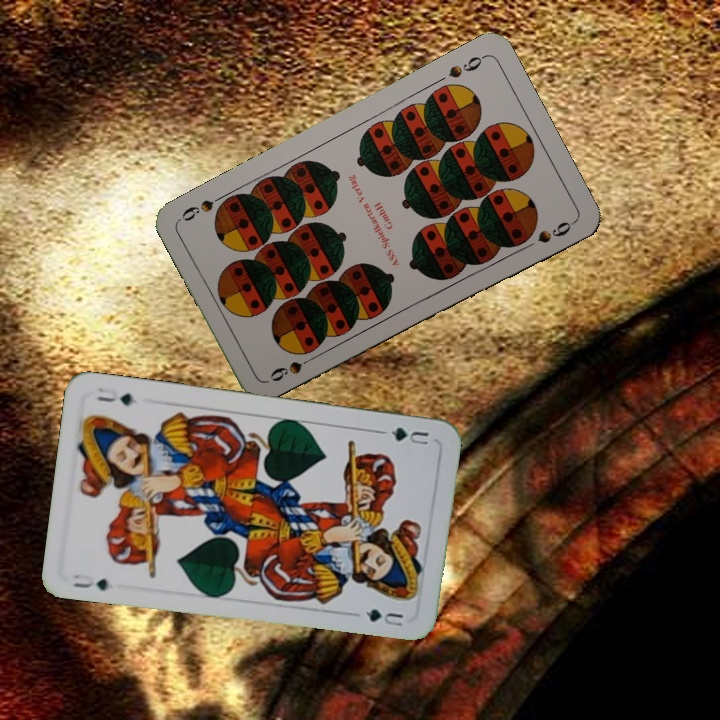GU: (387, 423, 432, 448), (68, 570, 112, 594)
S9: (266, 351, 320, 384), (444, 51, 488, 81)
